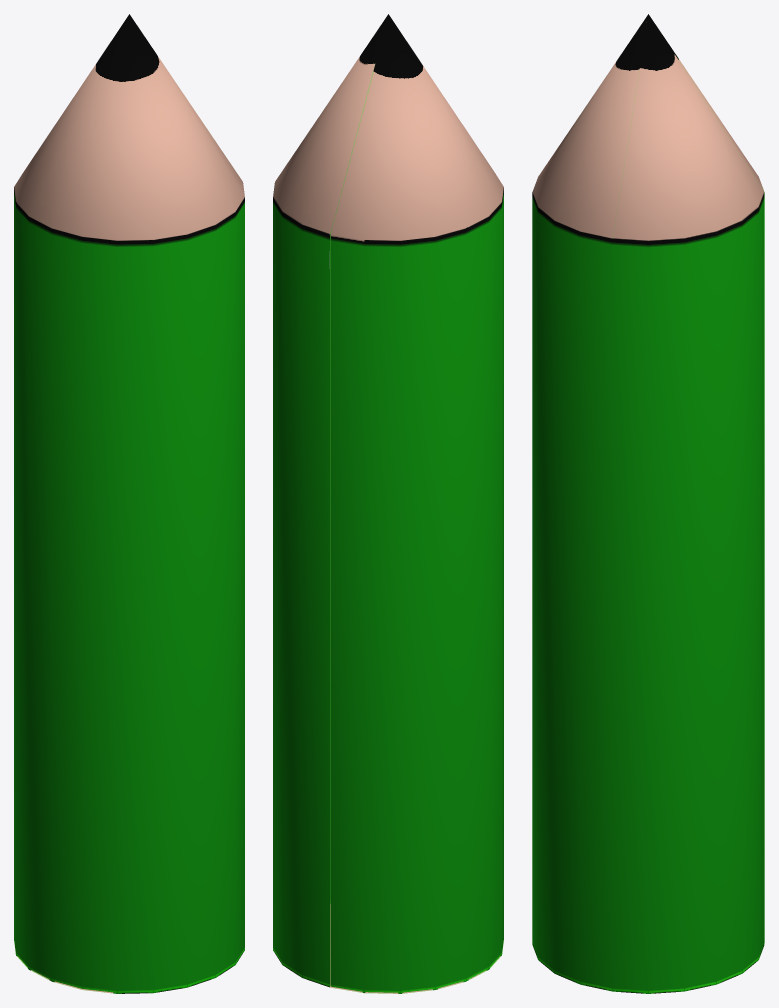
File: pencil02.FBX
The picture shows the model from 3 angles, left to right: view 1: azimuth 30°, elevation 25°; view 2: azimuth 150°, elevation 25°; view 3: azimuth 270°, elevation 25°; orthographic projection.
Visible parts, largest first — view 1: Cylinder002; view 2: Cylinder002; view 3: Cylinder002.
Part boxes in pixels (left/top/right/bottom): Cylinder002: left=14, top=14, right=244, bottom=993; Cylinder002: left=273, top=14, right=503, bottom=993; Cylinder002: left=532, top=14, right=764, bottom=993.
Bounding box in the file's own units: 5.08 × 22.49 × 5.08.
1 material, 1 textured.
